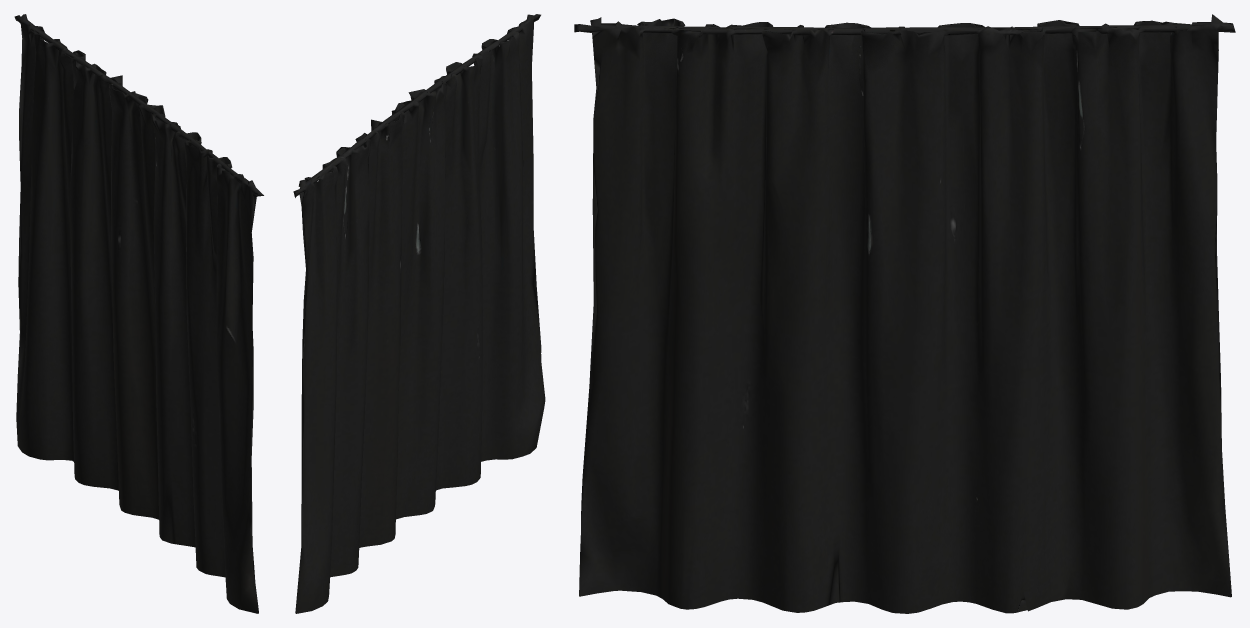
Rendered from black_stage_curtain_3d_model.fbx.
3 renders of one model, left to right at view 1: azimuth 30°, elevation 25°; view 2: azimuth 150°, elevation 25°; view 3: azimuth 270°, elevation 25°, orthographic. The views are drawn at different scales.
Visible parts, largest first — view 1: tripo_node_0dac5f7e; view 2: tripo_node_0dac5f7e; view 3: tripo_node_0dac5f7e.
Part boxes in pixels (<box>): tripo_node_0dac5f7e: <box>14,14,263,613</box>; tripo_node_0dac5f7e: <box>293,14,545,613</box>; tripo_node_0dac5f7e: <box>574,14,1235,613</box>.
Size of the model in its own units: 0.0879 by 0.9543 by 0.9812.
